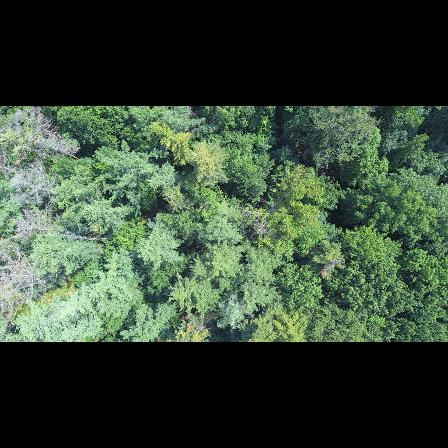Dead: (23, 112, 87, 164), (5, 170, 66, 208), (0, 275, 54, 312), (0, 256, 45, 277)
